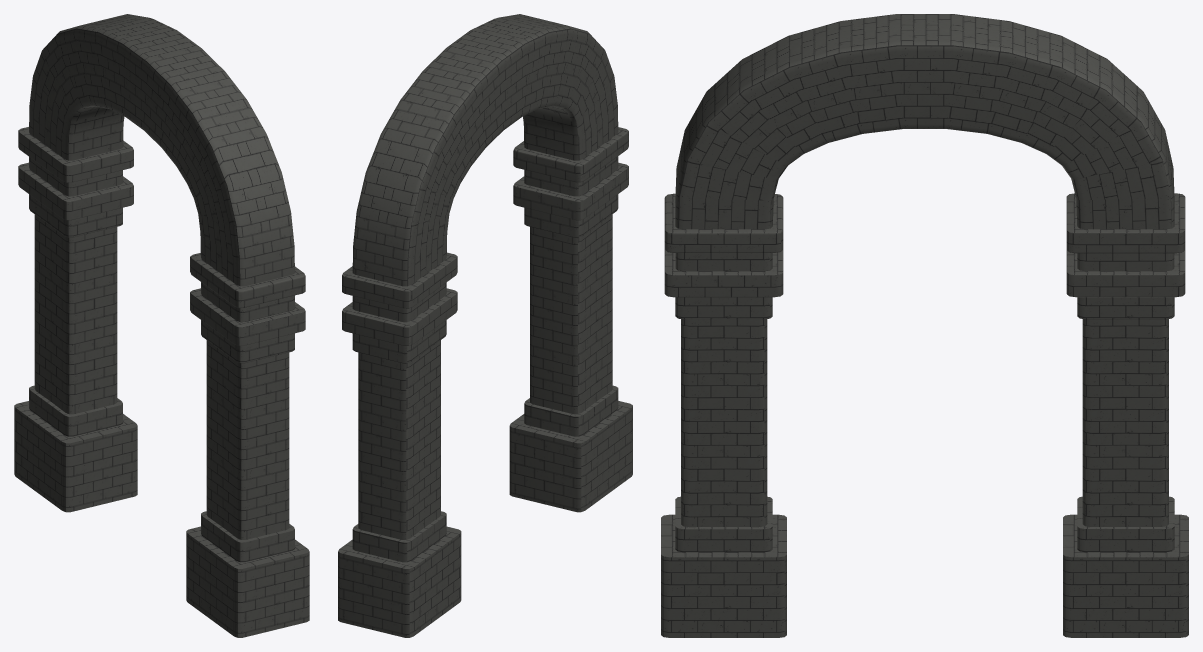
File: Arch_A_UV.fbx
The picture shows the model from 3 angles, left to right: view 1: azimuth 30°, elevation 25°; view 2: azimuth 150°, elevation 25°; view 3: azimuth 270°, elevation 25°; orthographic projection. The views are drawn at different scales.
Visible parts, largest first — view 1: Arch_A; view 2: Arch_A; view 3: Arch_A.
Boxes of the visible parts, left/top/right/bottom form: Arch_A: left=14, top=14, right=309, bottom=637; Arch_A: left=338, top=14, right=632, bottom=637; Arch_A: left=661, top=14, right=1188, bottom=637.
Size of the model in its own units: 54.36 by 350 by 284.
